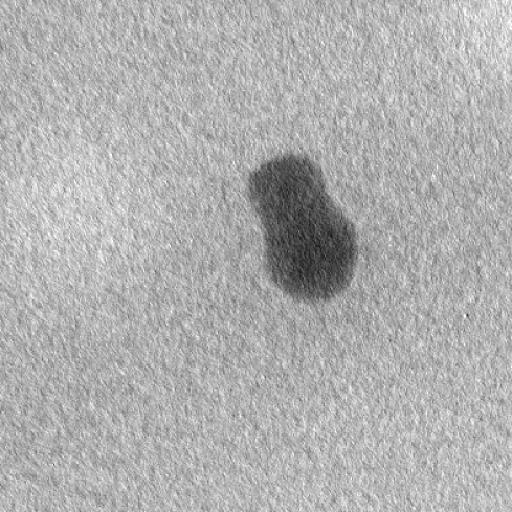Nanoparticles: (246, 150, 362, 304)
